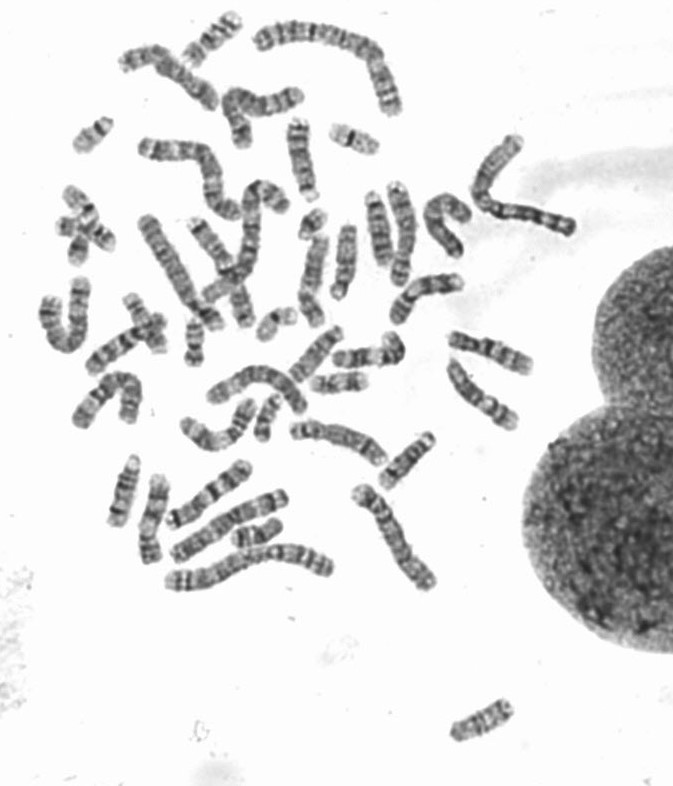chromosomes: (247, 17, 409, 123), (469, 129, 592, 250), (343, 481, 444, 603), (136, 210, 227, 338), (167, 487, 296, 567), (155, 543, 338, 597), (139, 138, 249, 221), (181, 216, 259, 332), (112, 43, 224, 117), (438, 358, 527, 444), (160, 457, 255, 526), (283, 416, 395, 474), (439, 321, 537, 385), (203, 366, 316, 421), (35, 269, 102, 360), (223, 81, 303, 152), (82, 313, 168, 375), (70, 366, 146, 434), (172, 12, 250, 77), (369, 430, 443, 492), (385, 271, 469, 325), (179, 397, 259, 453), (441, 693, 520, 747), (384, 172, 419, 292), (98, 446, 145, 534), (422, 182, 476, 257), (120, 290, 173, 361), (285, 117, 323, 212), (287, 323, 345, 383), (48, 212, 121, 259), (360, 187, 397, 271), (331, 329, 410, 368), (139, 470, 170, 569), (301, 230, 331, 330), (60, 113, 114, 158), (331, 220, 357, 308), (237, 177, 290, 219), (56, 178, 101, 226), (258, 302, 300, 349), (252, 389, 286, 445), (229, 514, 289, 544), (330, 126, 383, 158), (312, 369, 368, 398), (286, 206, 328, 241), (183, 315, 207, 371), (65, 232, 93, 268)
